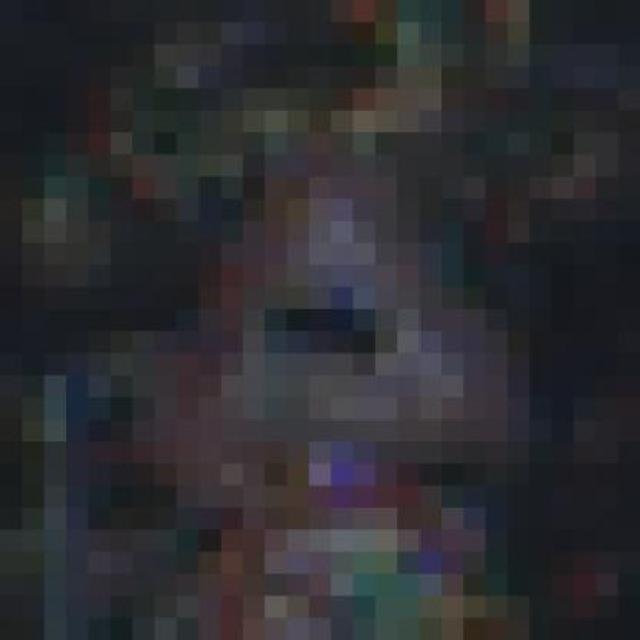Slippery Road Ahead: (122, 118, 542, 516)
